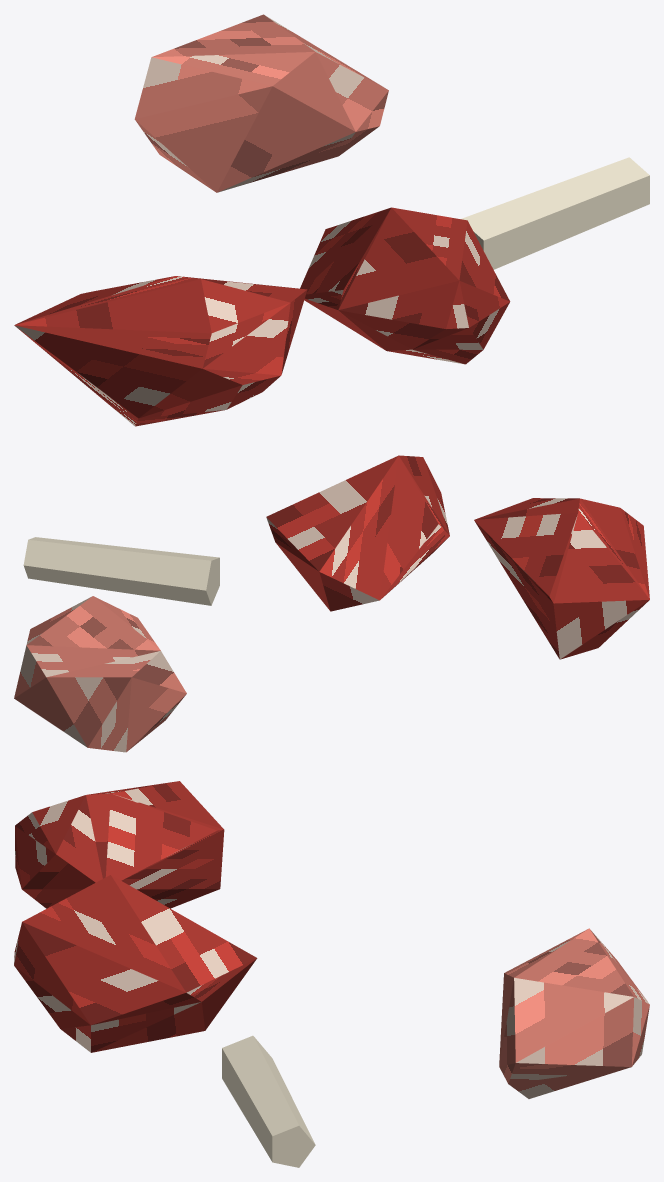
The model's file is fd_gibs_flesh.glb.
3 renders of one model, top to bottom at view 1: azimuth 30°, elevation 25°; view 2: azimuth 150°, elevation 25°; view 3: azimuth 270°, elevation 25°, orthographic. The views are drawn at different scales.
Parts seen in each view (by area): view 1: block_flesh (×3), block_bone; view 2: block_flesh (×3), block_bone; view 3: block_flesh (×3), block_bone.
Boxes of the visible parts, x1=… form: block_flesh (×3): x1=14, y1=14, x2=510, y2=426; block_bone: x1=460, y1=157, x2=649, y2=269; block_flesh (×3): x1=14, y1=455, x2=649, y2=752; block_bone: x1=23, y1=537, x2=219, y2=605; block_flesh (×3): x1=14, y1=781, x2=649, y2=1098; block_bone: x1=222, y1=1035, x2=315, y2=1167.
Size of what is drawn, in the model's own units: 0.353 by 0.0809 by 0.3108.
1 material, 1 textured.
